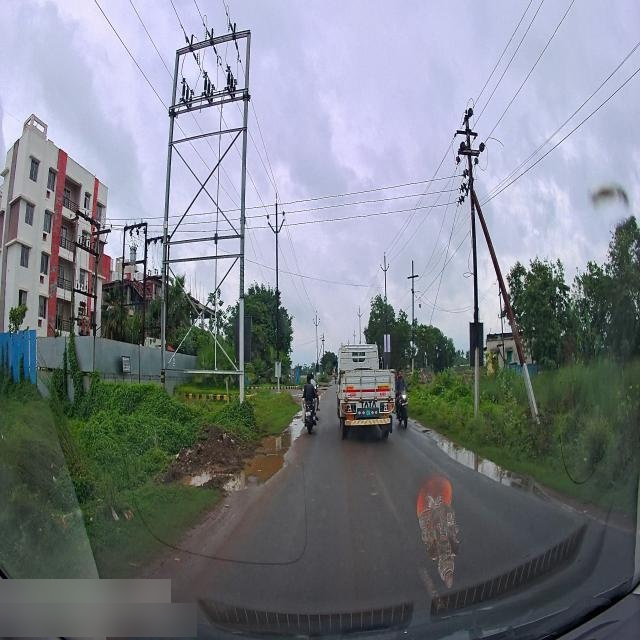pothole: (441, 438, 505, 479), (229, 448, 289, 484), (262, 438, 290, 450), (284, 414, 302, 432)
